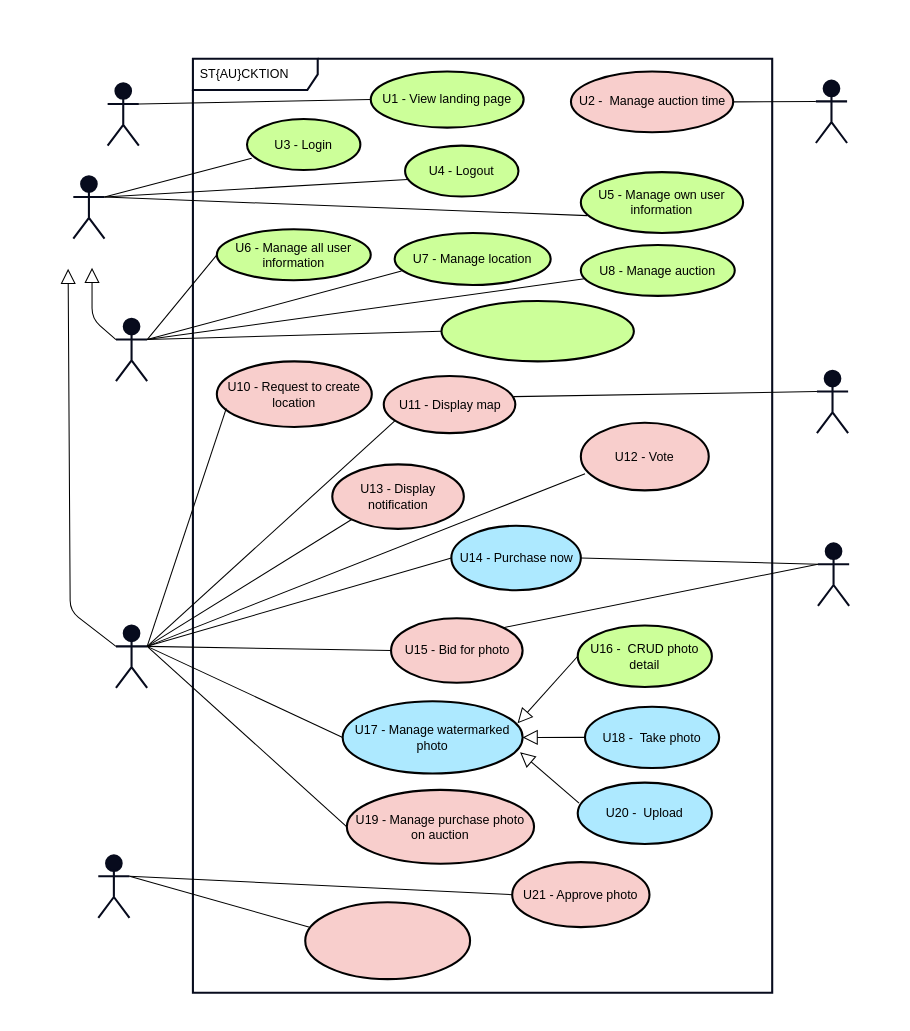
Image size: 910x1031. Some labels were removed from this diagram. The shapes that lost their labels are listed below. From the top down, each one's centre as x and y in pixels, then its label:
At pixel 122 114: "A1 - Guest User".
At pixel 831 111: "A6 - Timer".
At pixel 88 207: "A2 - <<Abstract User>>".
At pixel 131 349: "A3 - System Admin".
At pixel 537 331: "U9 - Manage all watermarked photo".
At pixel 832 401: "A7 - Google Api".
At pixel 833 574: "A8 - Bank Simulation".
At pixel 131 656: "A4 - Registered User".
At pixel 113 886: "A5 - Validating Agent".
At pixel 387 940: "U22 - Approve location".
